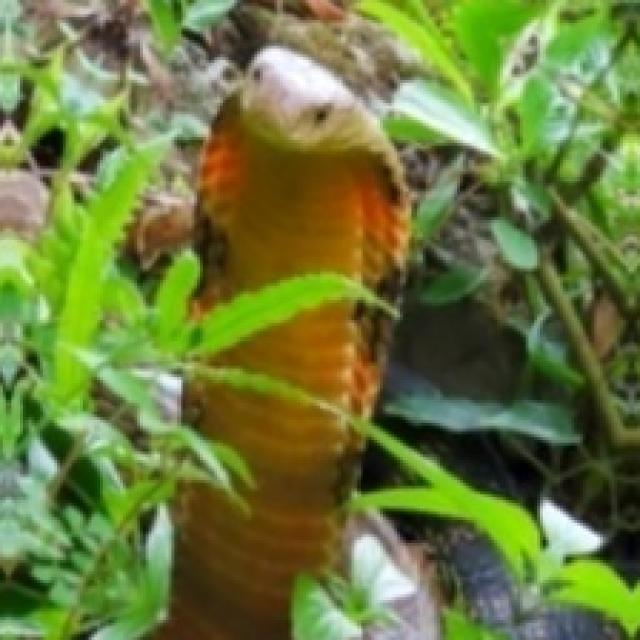king cobra: (157, 303, 389, 637), (197, 46, 406, 309)
